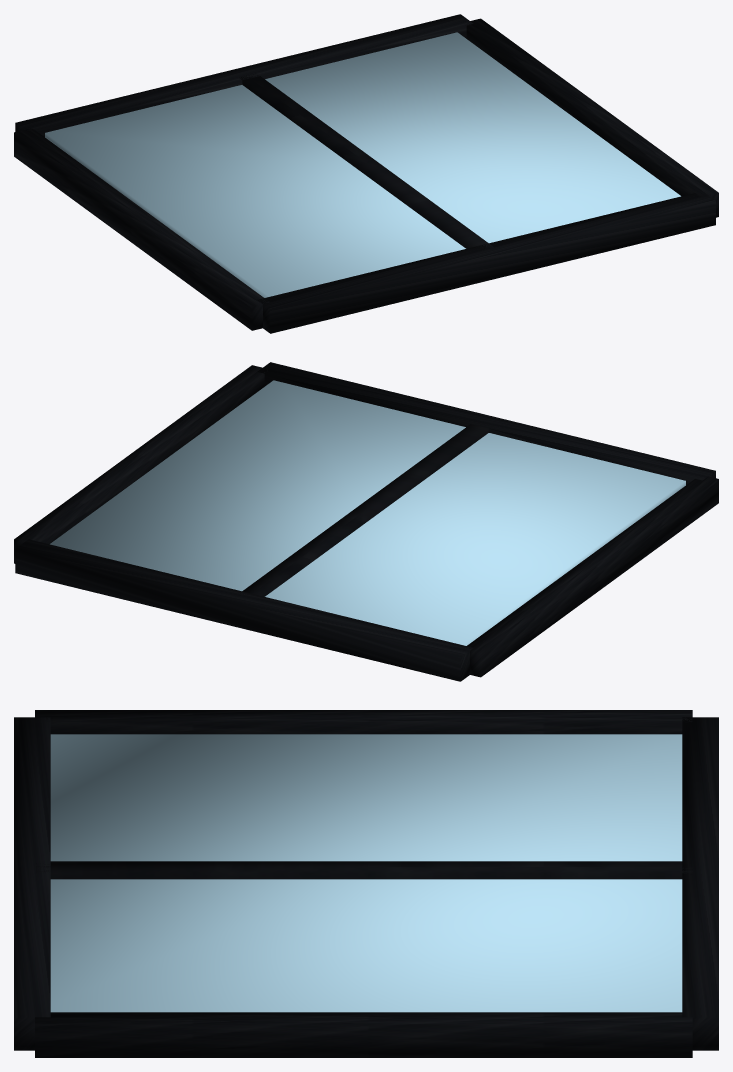
Rendered from ARCH_WINDOW_TALL_001.glb.
3 views of the same model, one above another, from view 1: azimuth 30°, elevation 25°; view 2: azimuth 150°, elevation 25°; view 3: azimuth 270°, elevation 25° (orthographic). The views are drawn at different scales.
Parts seen in each view (by area): view 1: window_glass_000, window_top_001, mullion_003, window_bottom_002, mullion_005, mullion_004; view 2: window_glass_000, window_bottom_002, mullion_003, window_top_001, mullion_005, mullion_004; view 3: window_glass_000, mullion_005, mullion_003, mullion_004, window_bottom_002, window_top_001.
Part boxes in pixels (bbox=[...]): window_glass_000: bbox=[45, 32, 680, 297]; window_top_001: bbox=[257, 193, 715, 333]; mullion_003: bbox=[14, 128, 269, 330]; window_bottom_002: bbox=[15, 14, 473, 136]; mullion_005: bbox=[466, 18, 718, 217]; mullion_004: bbox=[239, 73, 493, 250]; window_glass_000: bbox=[50, 380, 685, 645]; window_bottom_002: bbox=[15, 539, 473, 681]; mullion_003: bbox=[464, 475, 718, 677]; window_top_001: bbox=[257, 362, 715, 484]; mullion_005: bbox=[14, 365, 267, 563]; mullion_004: bbox=[240, 424, 492, 597]; window_glass_000: bbox=[50, 734, 682, 1012]; mullion_005: bbox=[35, 1012, 692, 1057]; mullion_003: bbox=[35, 710, 692, 734]; mullion_004: bbox=[36, 861, 692, 879]; window_bottom_002: bbox=[682, 717, 718, 1050]; window_top_001: bbox=[14, 717, 50, 1050].
Bounding box in the file's own units: 1.41 × 0.07 × 1.34.
Materials: 2 (2 with a texture image).
